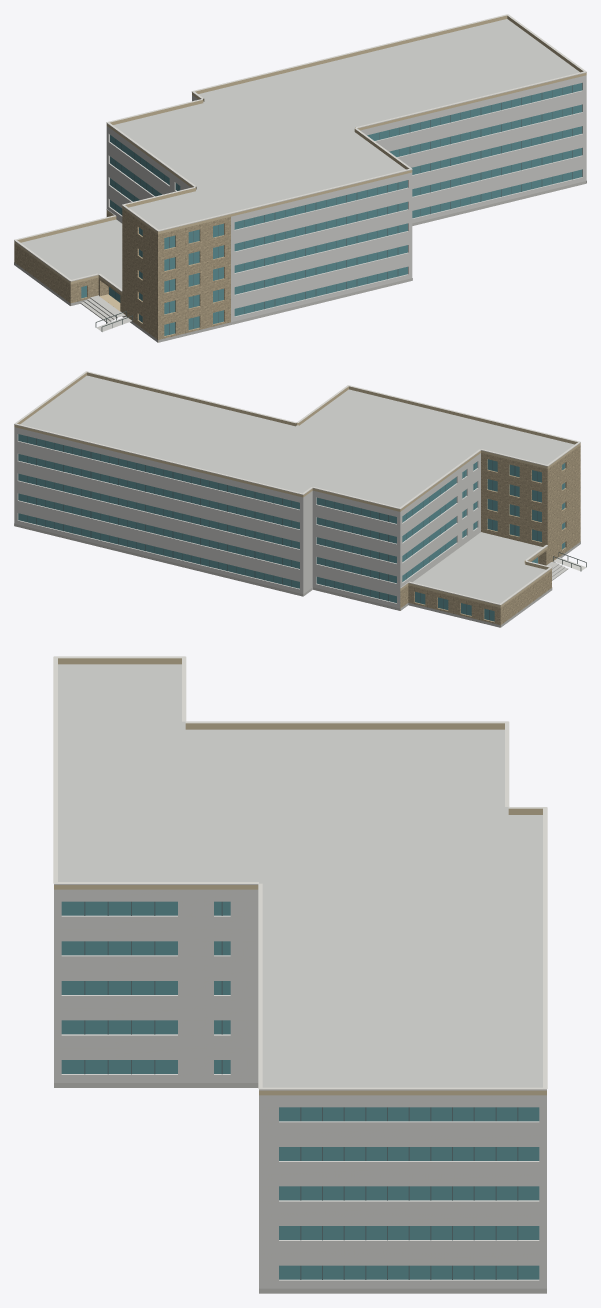
3 renders of one model, top to bottom at view 1: azimuth 30°, elevation 25°; view 2: azimuth 150°, elevation 25°; view 3: azimuth 270°, elevation 25°, orthographic. The views are drawn at different scales.
Visible parts, largest first — view 1: life__roof, life__wall2, life__glass, life__wall, life__parapet, life__trim, life__frame, life__base, life__externalStairTreads; view 2: life__roof, life__wall2, life__glass, life__wall, life__parapet, life__trim, life__frame, life__base; view 3: life__roof, life__wall2, life__glass, life__trim, life__parapet, life__base, life__frame.
Part boxes in pixels (left/top/right/bottom): life__roof: left=21, top=19, right=579, bottom=289; life__wall2: left=106, top=75, right=586, bottom=322; life__glass: left=81, top=83, right=582, bottom=335; life__wall: left=14, top=208, right=230, bottom=342; life__parapet: left=14, top=15, right=586, bottom=294; life__trim: left=14, top=14, right=586, bottom=291; life__frame: left=115, top=85, right=572, bottom=334; life__base: left=14, top=181, right=586, bottom=342; life__externalStairTreads: left=81, top=296, right=120, bottom=322; life__roof: left=20, top=375, right=574, bottom=603; life__wall2: left=14, top=427, right=480, bottom=608; life__glass: left=18, top=434, right=565, bottom=621; life__wall: left=400, top=445, right=580, bottom=627; life__parapet: left=14, top=372, right=580, bottom=607; life__trim: left=14, top=371, right=580, bottom=605; life__frame: left=27, top=436, right=563, bottom=620; life__base: left=14, top=523, right=580, bottom=627; life__roof: left=58, top=664, right=542, bottom=1087; life__wall2: left=54, top=889, right=546, bottom=1288; life__glass: left=61, top=901, right=539, bottom=1279; life__trim: left=53, top=656, right=547, bottom=1090; life__parapet: left=54, top=658, right=546, bottom=1095; life__base: left=54, top=1083, right=546, bottom=1293; life__frame: left=84, top=901, right=518, bottom=1279.
Bounding box in the file's own units: 87.35 × 18.07 × 39.59.
15 materials, 1 textured.
